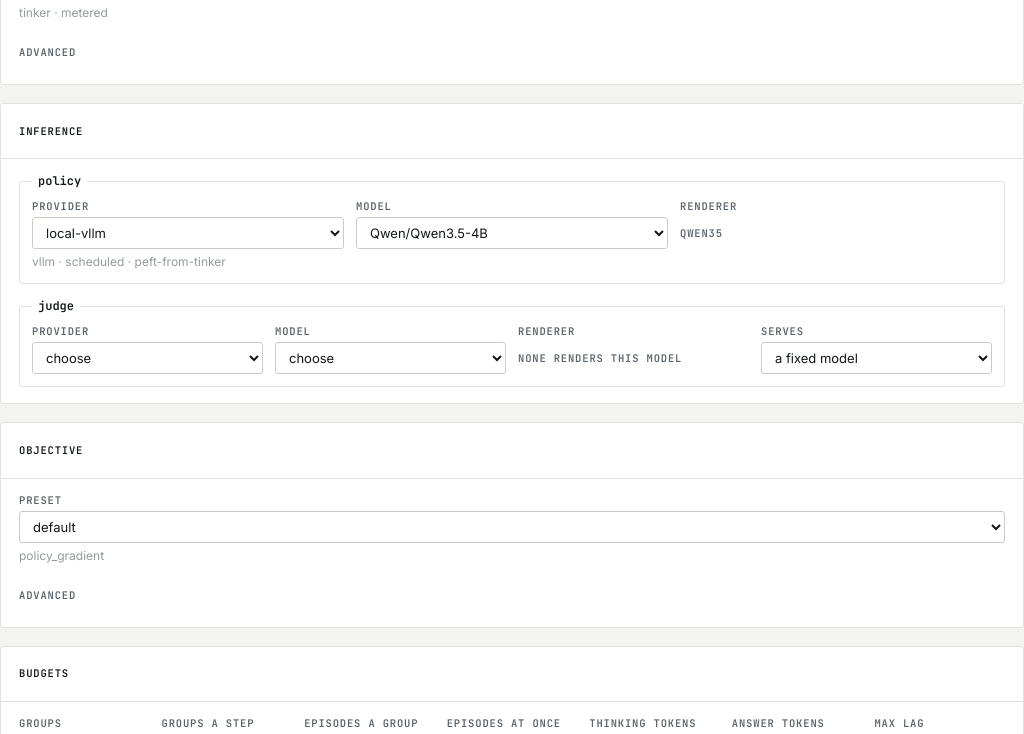
Test: the New run form › binds a judge to a hosted API, shown metered with its model's prices and no renderer of its own
(page scrolled)
Select "openai" in the dropdown named "judge provider": (148, 358) left=32, top=342, right=263, bottom=374
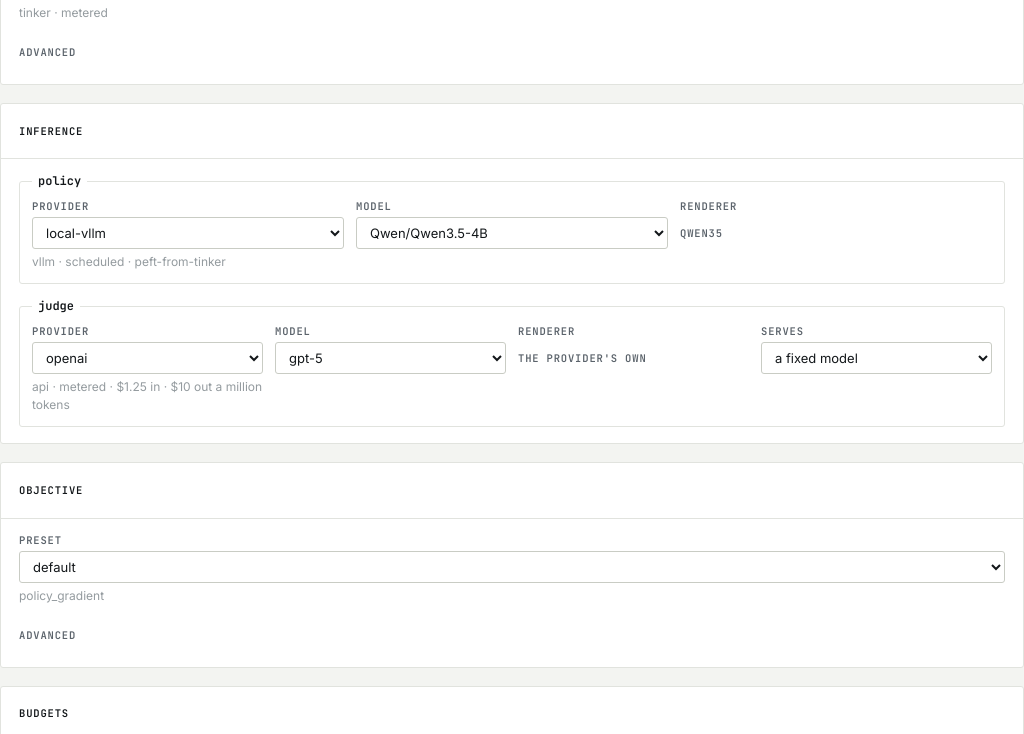
Expected: the text named "judge renderer" reads "the provider's own", left=518, top=352, right=646, bottom=366
